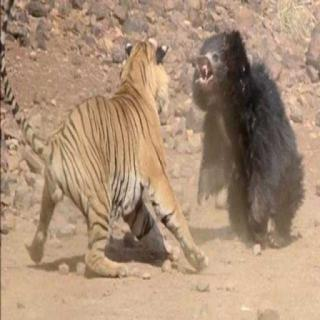Tiger: (30, 38, 227, 278)
